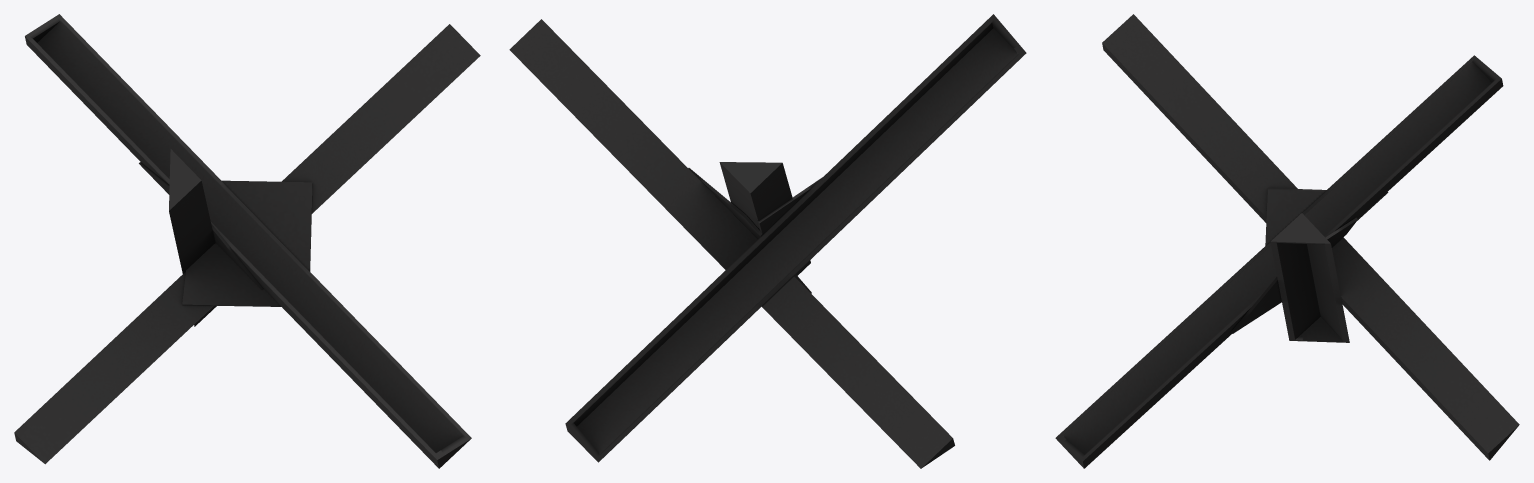
Rendered from TankTrap.fbx.
The picture shows the model from 3 angles, left to right: view 1: azimuth 30°, elevation 25°; view 2: azimuth 150°, elevation 25°; view 3: azimuth 270°, elevation 25°; orthographic projection. The views are drawn at different scales.
Visible parts, largest first — view 1: Tanktrap; view 2: Tanktrap; view 3: Tanktrap.
Boxes of the visible parts, x1=… form: Tanktrap: x1=14, y1=14, x2=480, y2=468; Tanktrap: x1=509, y1=14, x2=1026, y2=468; Tanktrap: x1=1055, y1=14, x2=1519, y2=468.
Size of the model in its own units: 6.64 by 5.27 by 6.36.
